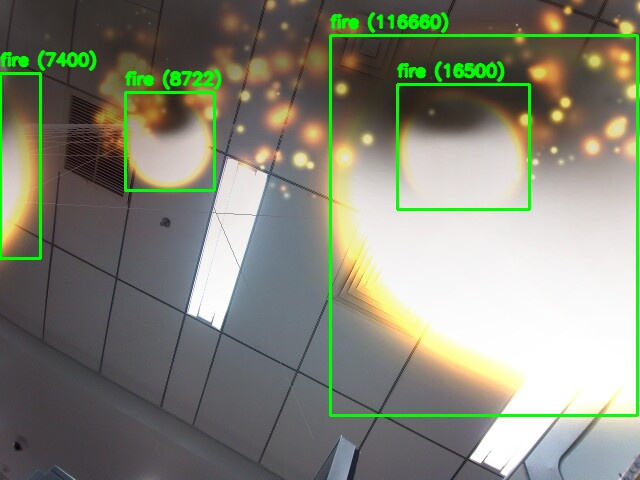fire: (330, 35, 637, 415), (397, 84, 529, 209), (125, 92, 214, 190), (0, 73, 40, 258)
